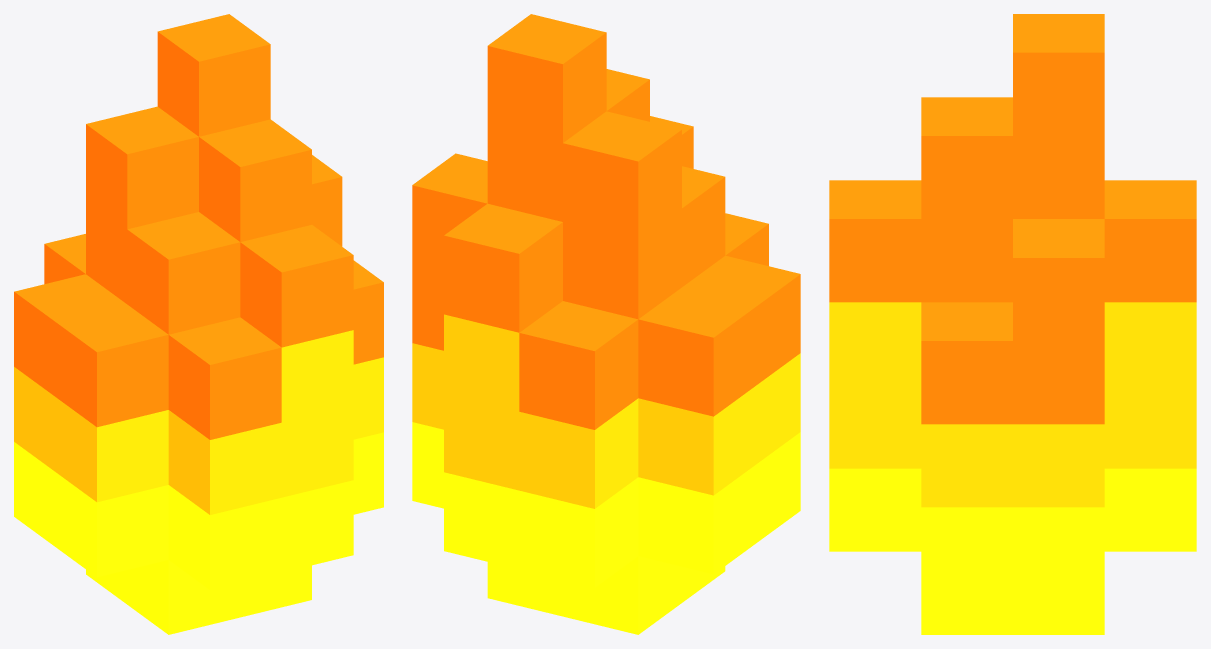
Rendered from Projectile_Fireball.fbx.
The picture shows the model from 3 angles, left to right: view 1: azimuth 30°, elevation 25°; view 2: azimuth 150°, elevation 25°; view 3: azimuth 270°, elevation 25°; orthographic projection. The views are drawn at different scales.
Visible parts, largest first — view 1: Cube.1376; view 2: Cube.1376; view 3: Cube.1376.
Boxes of the visible parts, bbox=[...] form: Cube.1376: bbox=[14, 14, 383, 634]; Cube.1376: bbox=[412, 14, 800, 634]; Cube.1376: bbox=[829, 14, 1196, 634].
Size of the model in its own units: 800 by 1400 by 800.
